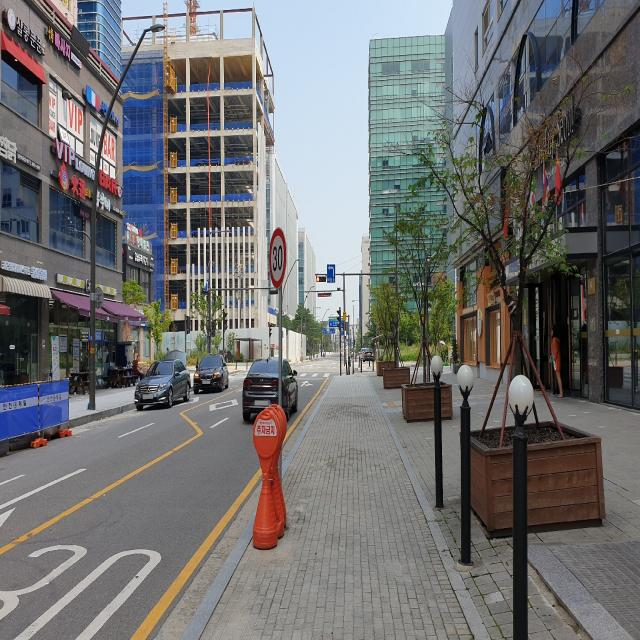횡단보도: (296, 366, 333, 384), (358, 368, 377, 371)
